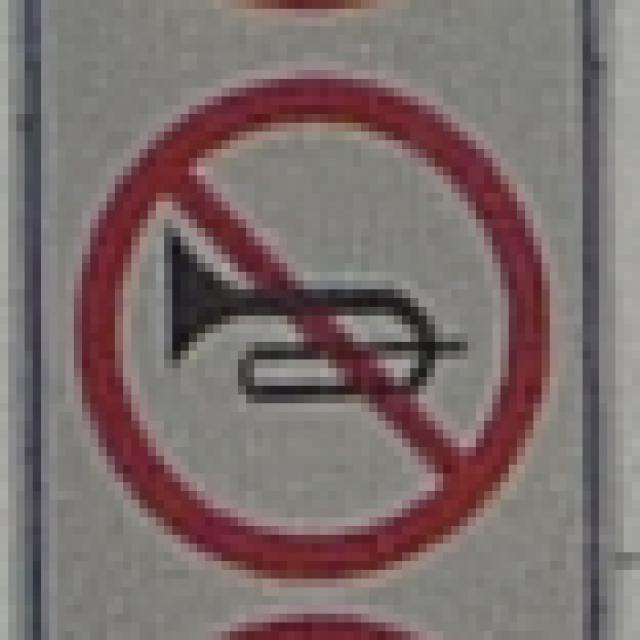No Horn: (81, 67, 555, 579)
